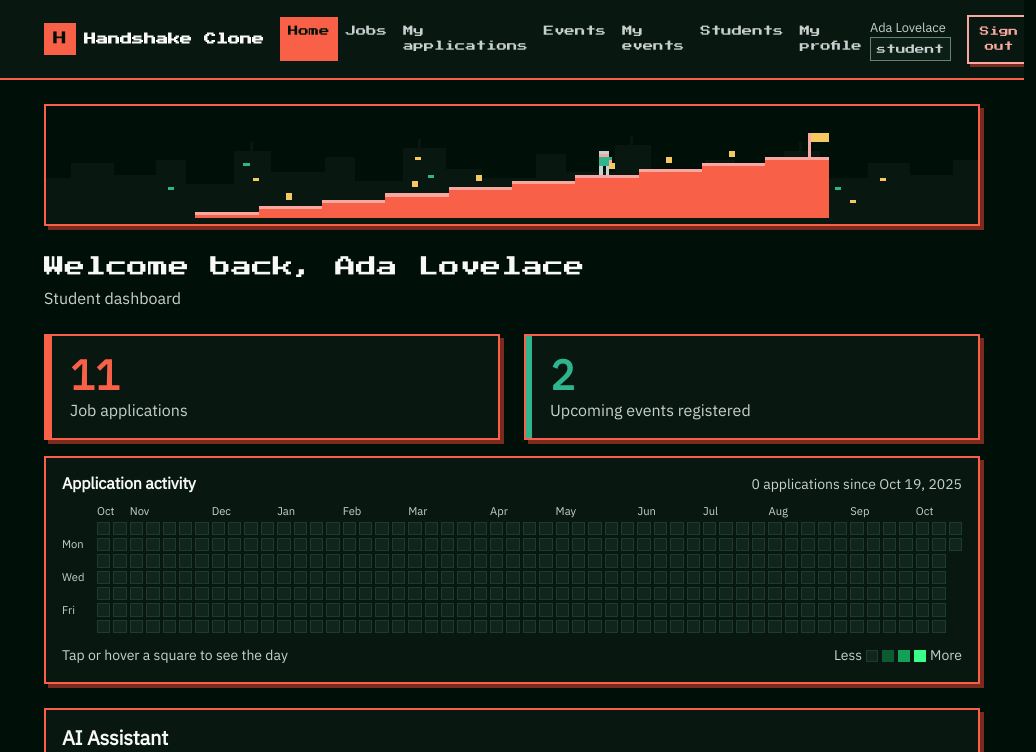
Test: Navigation bar › signs out: tells the server, clears the session and returns to the sign-in page
Click the button "Sign out".
click(995, 39)  # box x1=967 y1=15 x2=1024 y2=64
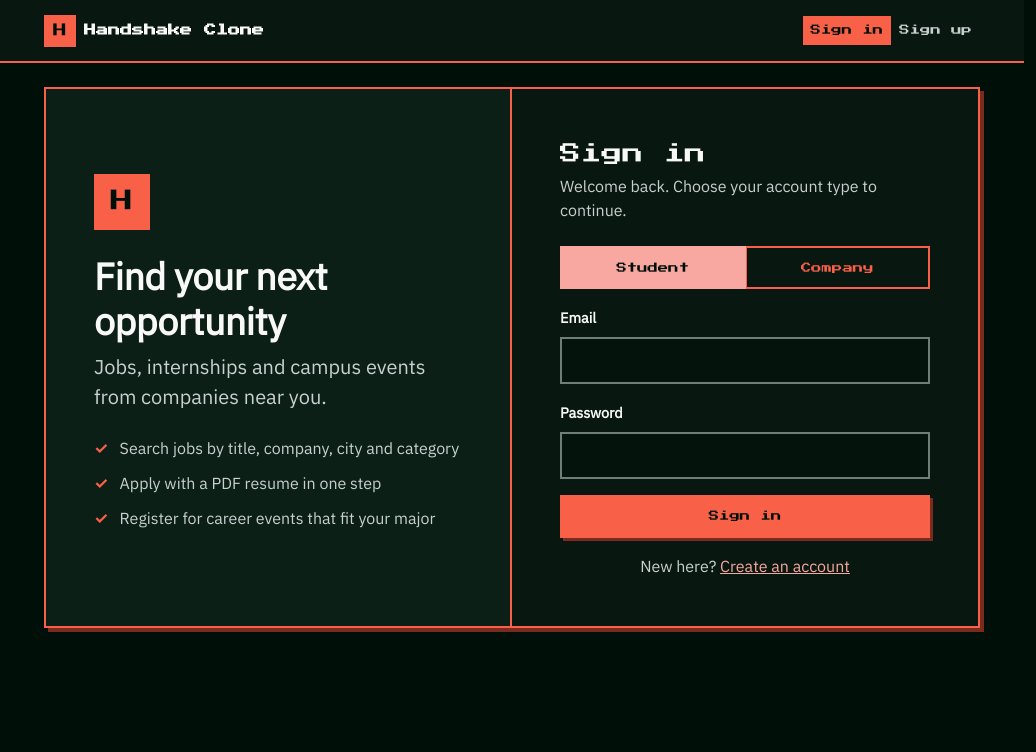
Expected: the heading "Sign in" is shown, x1=560 y1=143 x2=706 y2=164
